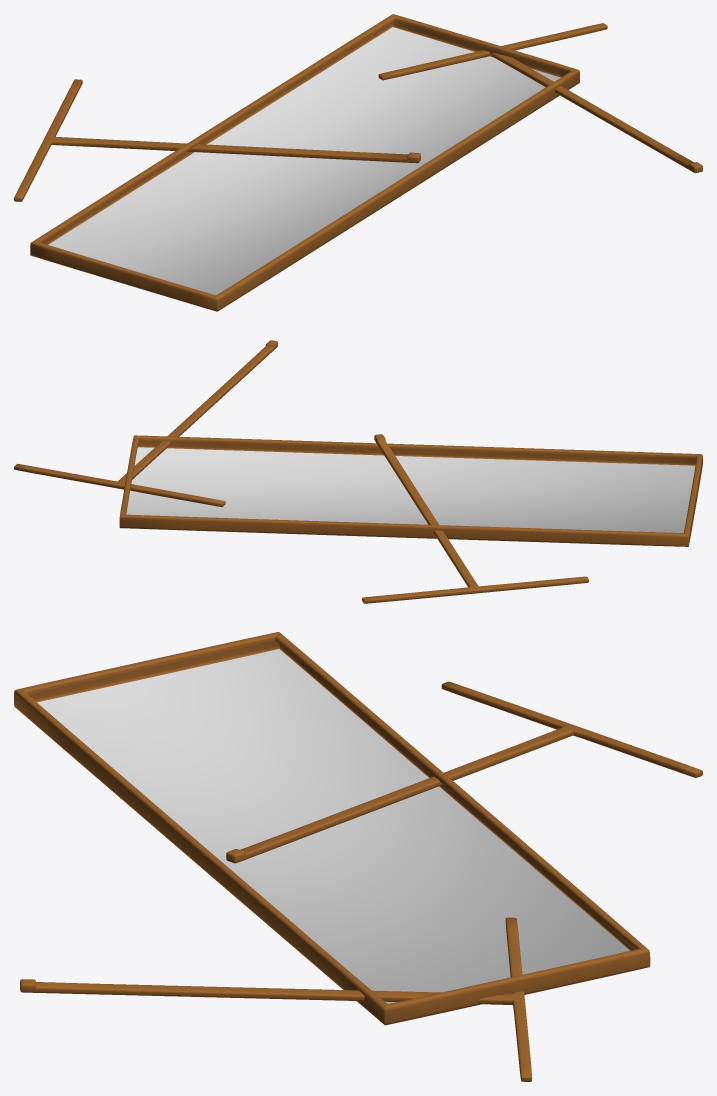
File: b_ayna.obj
3 renders of one model, top to bottom at view 1: azimuth 30°, elevation 25°; view 2: azimuth 150°, elevation 25°; view 3: azimuth 270°, elevation 25°, orthographic. The views are drawn at different scales.
Visible parts, largest first — view 1: Box009.017_m_white, Box009.017_m_koyuahşap; view 2: Box009.017_m_white, Box009.017_m_koyuahşap; view 3: Box009.017_m_white, Box009.017_m_koyuahşap.
Boxes of the visible parts, <box> form: Box009.017_m_white: <box>48,27,560,295</box>; Box009.017_m_koyuahşap: <box>14,14,702,311</box>; Box009.017_m_white: <box>126,447,695,532</box>; Box009.017_m_koyuahşap: <box>14,340,702,603</box>; Box009.017_m_white: <box>37,649,629,1003</box>; Box009.017_m_koyuahşap: <box>14,632,702,1081</box>.
Size of the model in its own units: 25.25 by 1.05 by 17.21.
